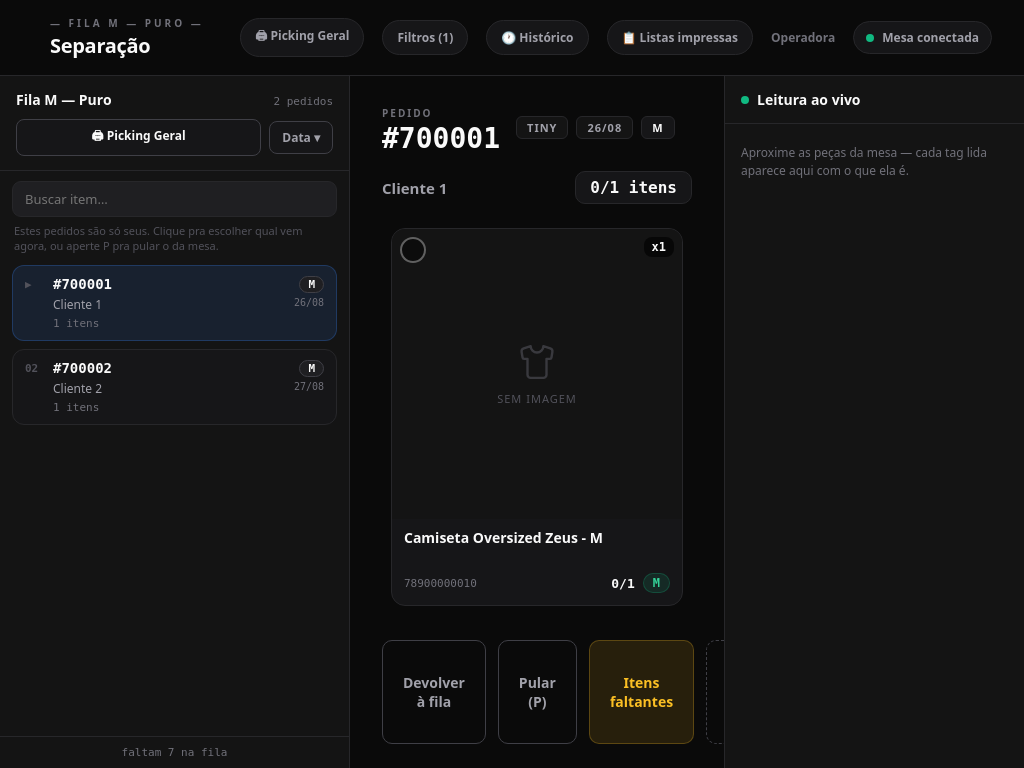
Test case: seletor Data com filtro de produto ativo › lista as datas do lote dela mesmo com a fila esgotada pelo filtro
Expected: the 2nd text "#700001" is shown, [53,276,112,292]
What coordinates should you click on to do the following:
click the button "Data ▾"
I would click on:
 (301, 138)
Its box is [269,121,333,154].
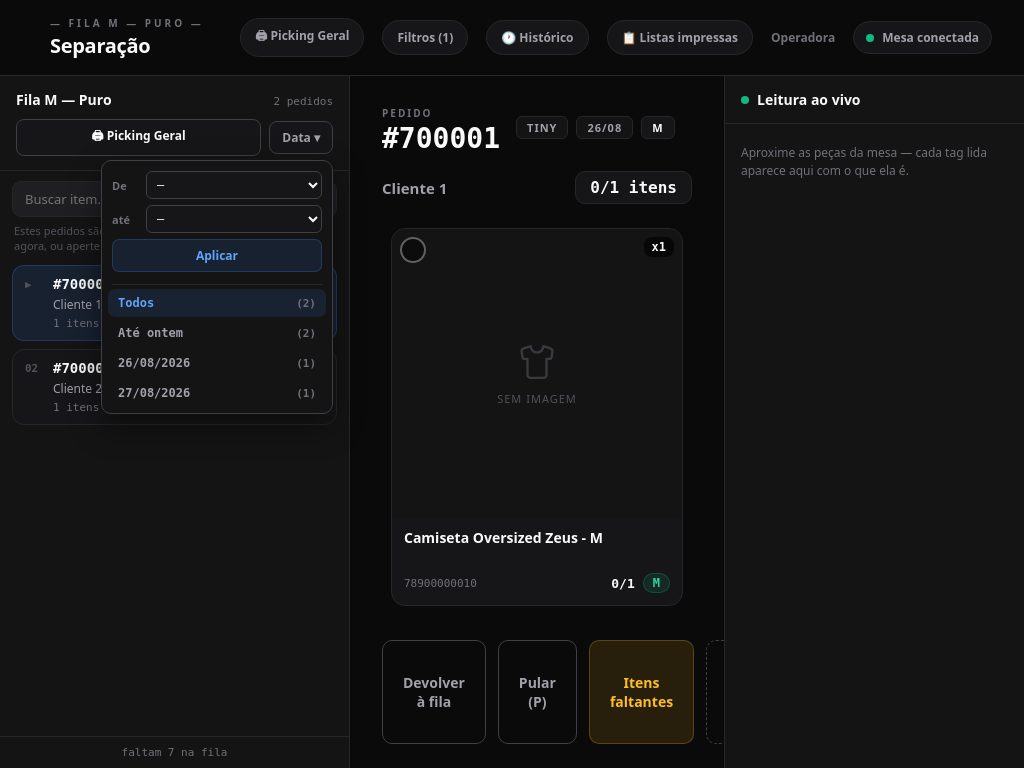
Expected: the button "26/08/2026 (1)" is shown, [108,349,326,377]
What coordinates should you click on to do the following:
click the button "27/08/2026 (1)"
I would click on:
 (217, 393)
Its box is [108,379,326,407].
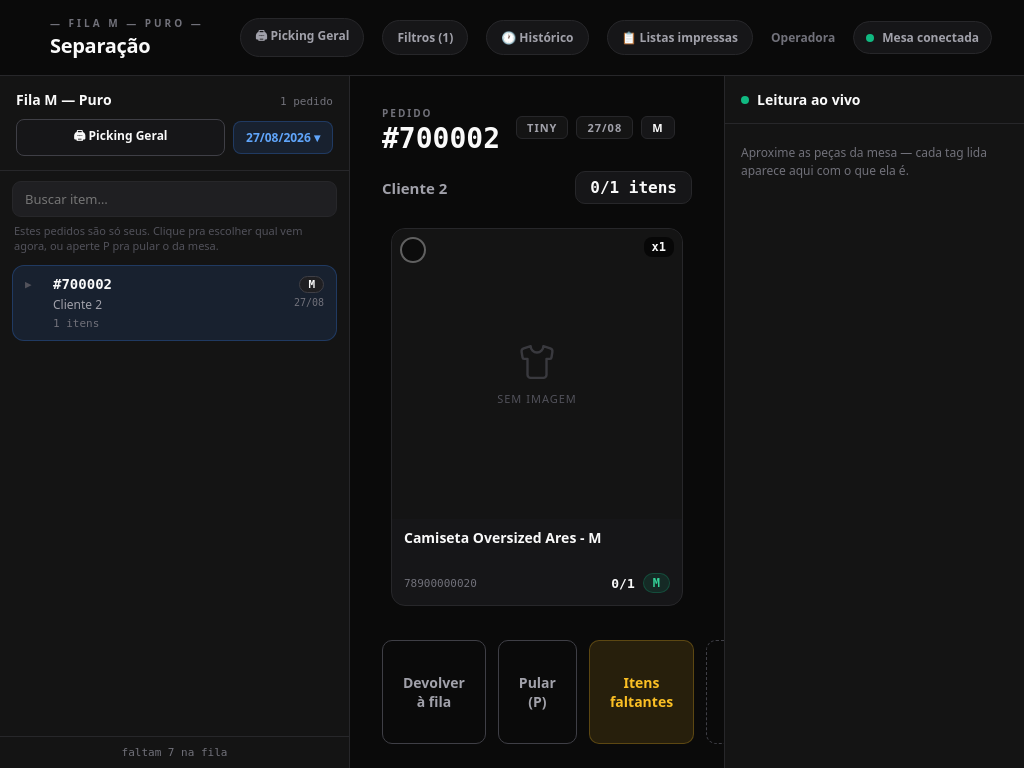
Expected: the 2nd text "#700002" is shown, [53,276,112,292]
Expected: the button "27/08/2026 ▾" is shown, [233,121,333,154]
Expected: the text "#700001" is gone
